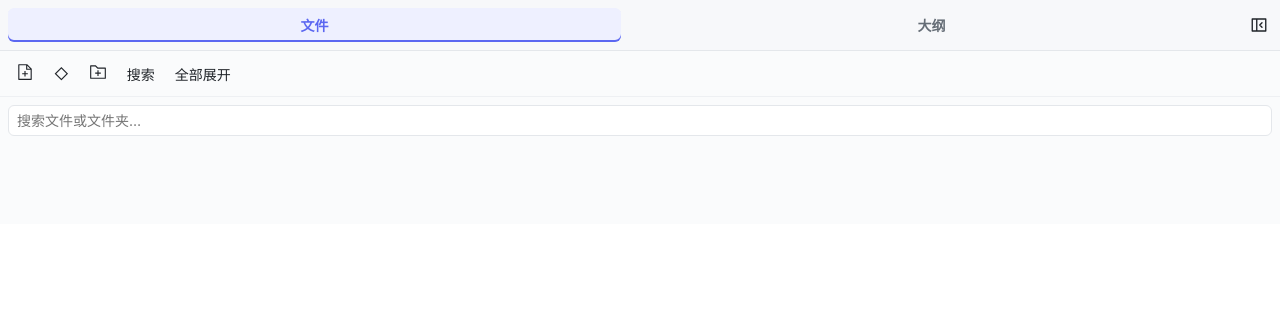
Test: FileTreePanel file switching › switches full-height panels using tabs and preserves the file search
The width and height of the screenshot is (1280, 330).
expect the panel with id "workspace-files-panel" is shown: met, box x1=0 y1=51 x2=1279 y2=136
Type "笔记" into the search field with placeholder "搜索文件或文件夹…" at coordinates (640, 120), box x1=8 y1=105 x2=1272 y2=136
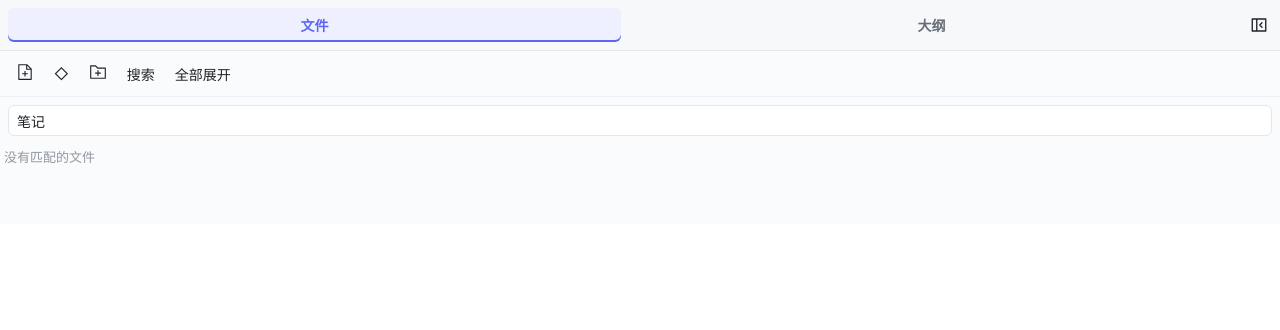
Click the tab with id "workspace-outline-tab" at coordinates (932, 25), box x1=625 y1=8 x2=1238 y2=42
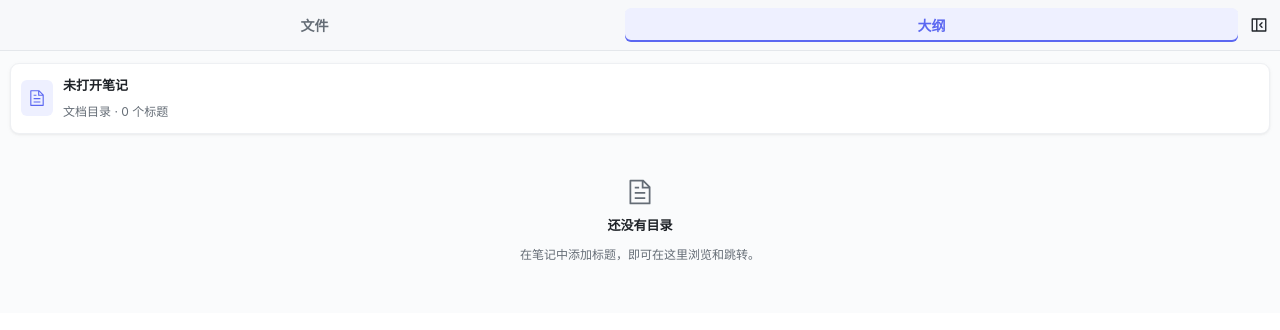
expect the panel with id "workspace-files-panel" is gone: met
expect the panel with id "workspace-outline-panel" is shown: met
Press ArrowLeft in the tab with id "workspace-outline-tab", box x1=625 y1=8 x2=1238 y2=42
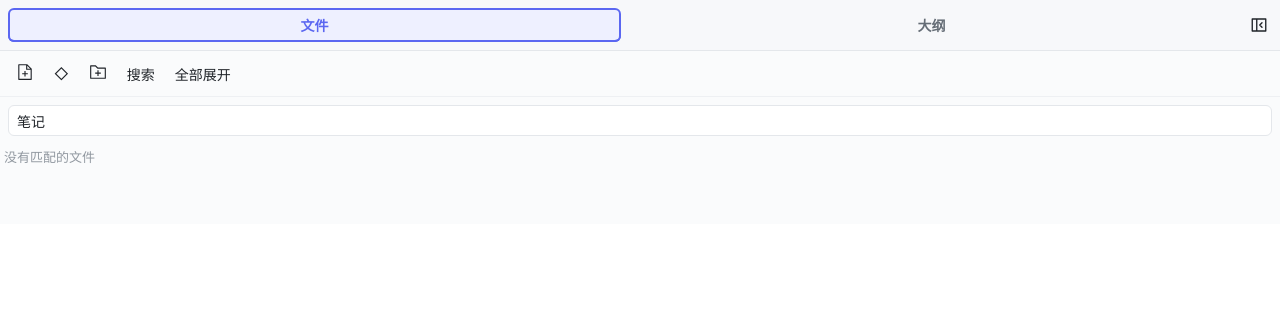
expect the panel with id "workspace-files-panel" is shown: met, box x1=0 y1=51 x2=1279 y2=224
